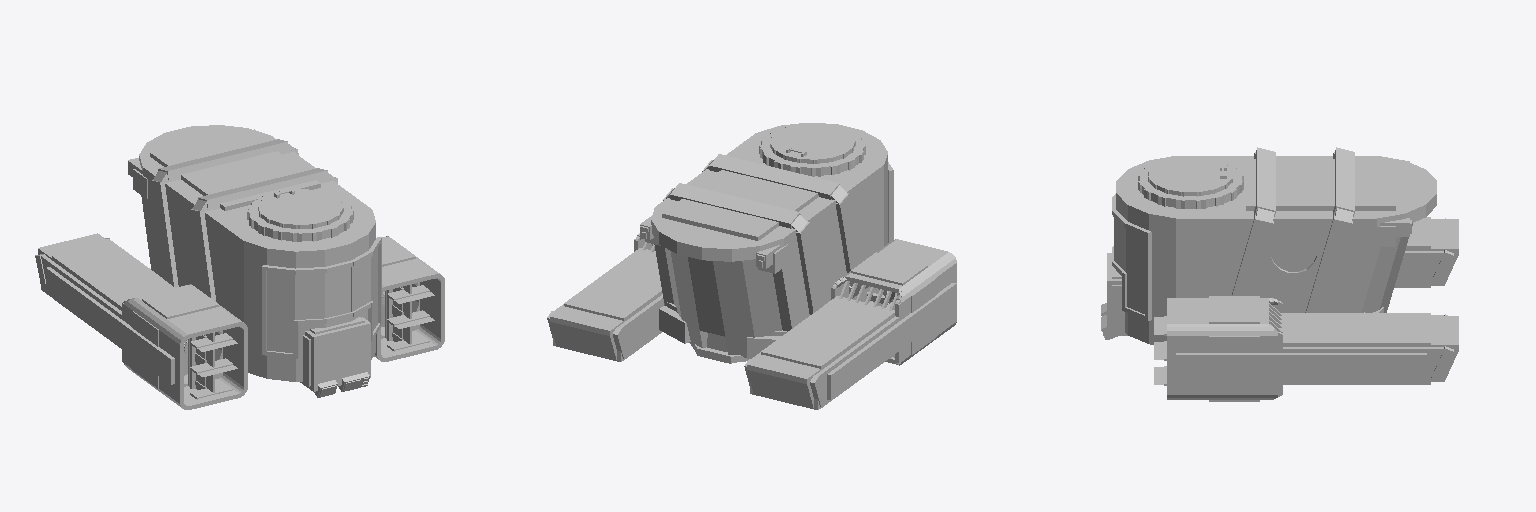
The model's file is Uboot.obj.
The picture shows the model from 3 angles: view 1: azimuth 30°, elevation 25°; view 2: azimuth 150°, elevation 25°; view 3: azimuth 270°, elevation 25°; orthographic projection.
Visible parts, largest first — view 1: hexadecagon.122, cube.163, cube.172, hexadecagon.064, hexadecagon.096, hexadecagon.042, hexadecagon.087, hexadecagon.041, hexadecagon.054, cube.179, hexadecagon.126, hexadecagon.035 (+23 smaller); view 2: cube.163, hexadecagon.122, cube.018, cube.172, hexadecagon.064, hexadecagon.050, hexadecagon.051, hexadecagon.049, hexadecagon.041, cube.100, cube.159, cube.179 (+24 smaller); view 3: cube.026, hexadecagon.122, cube.018, hexadecagon.068, hexadecagon.040, hexadecagon.041, hexadecagon.057, cube.025, hexadecagon.125, cube.097, hexadecagon.132, hexadecagon.056 (+25 smaller).
Part boxes in pixels (left/top/right/bottom): hexadecagon.122: left=150, top=129, right=320, bottom=210; cube.163: left=52, top=241, right=174, bottom=310; cube.172: left=46, top=267, right=174, bottom=384; hexadecagon.064: left=152, top=194, right=228, bottom=310; hexadecagon.096: left=302, top=317, right=370, bottom=391; hexadecagon.042: left=244, top=191, right=354, bottom=378; hexadecagon.087: left=267, top=272, right=294, bottom=352; hexadecagon.041: left=229, top=199, right=371, bottom=321; hexadecagon.054: left=143, top=163, right=243, bottom=241; cube.179: left=142, top=286, right=218, bottom=318; hexadecagon.126: left=151, top=179, right=178, bottom=287; hexadecagon.035: left=267, top=190, right=333, bottom=381; cube.163: left=761, top=298, right=894, bottom=369; hexadecagon.122: left=662, top=170, right=818, bottom=240; cube.018: left=564, top=249, right=662, bottom=321; cube.172: left=827, top=283, right=956, bottom=399; hexadecagon.064: left=793, top=188, right=869, bottom=327; hexadecagon.050: left=713, top=261, right=754, bottom=357; hexadecagon.051: left=742, top=259, right=781, bottom=336; hexadecagon.049: left=688, top=257, right=724, bottom=336; hexadecagon.041: left=742, top=133, right=883, bottom=255; cube.100: left=550, top=322, right=616, bottom=360; cube.159: left=747, top=370, right=813, bottom=408; cube.179: left=851, top=252, right=927, bottom=285; cube.026: left=1176, top=353, right=1426, bottom=379; hexadecagon.122: left=1246, top=159, right=1395, bottom=210; cube.018: left=1283, top=313, right=1430, bottom=346; hexadecagon.068: left=1205, top=231, right=1270, bottom=297; hexadecagon.040: left=1149, top=156, right=1213, bottom=344; hexadecagon.041: left=1176, top=156, right=1205, bottom=297; hexadecagon.057: left=1205, top=211, right=1376, bottom=230; cube.025: left=1167, top=347, right=1444, bottom=381; hexadecagon.125: left=1305, top=213, right=1352, bottom=312; cube.097: left=1209, top=336, right=1259, bottom=394; hexadecagon.132: left=1232, top=215, right=1273, bottom=295; hexadecagon.056: left=1317, top=231, right=1358, bottom=312.
Size of the model in its own units: 4.25 by 2.51 by 4.82.